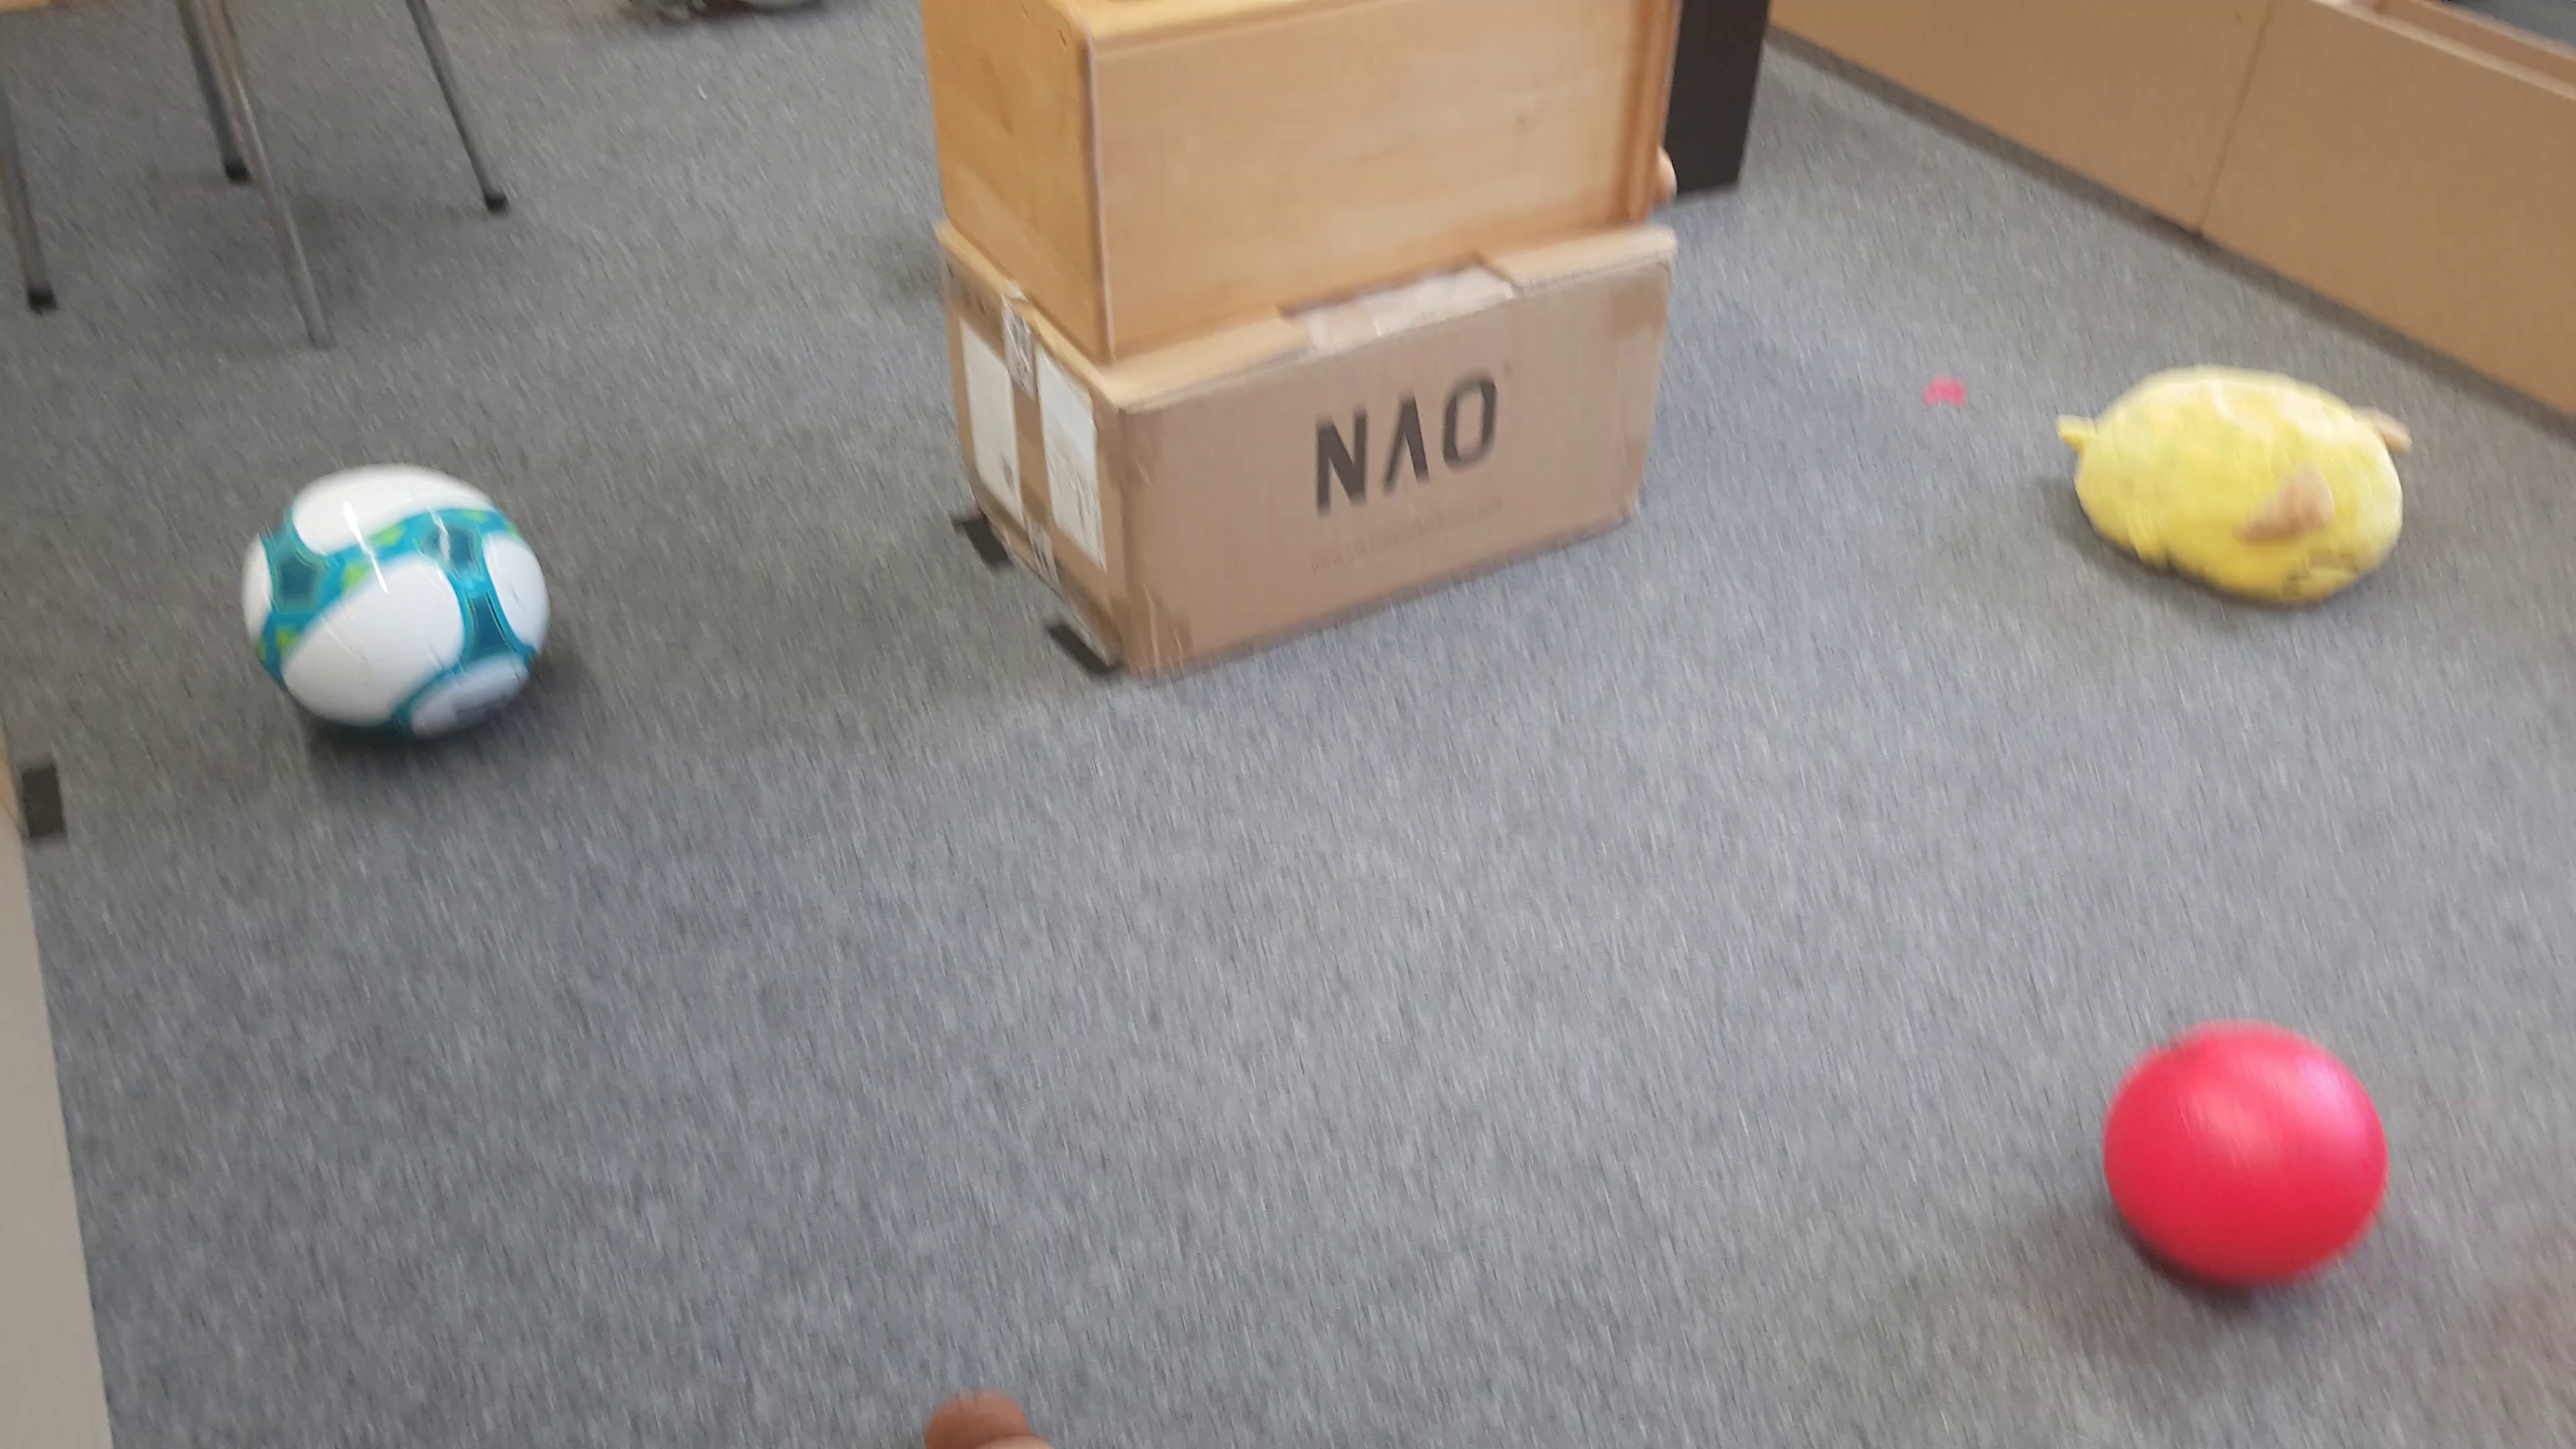grasp: (2054, 361, 2404, 617)
kick: (242, 460, 547, 747), (2097, 1023, 2394, 1292)
